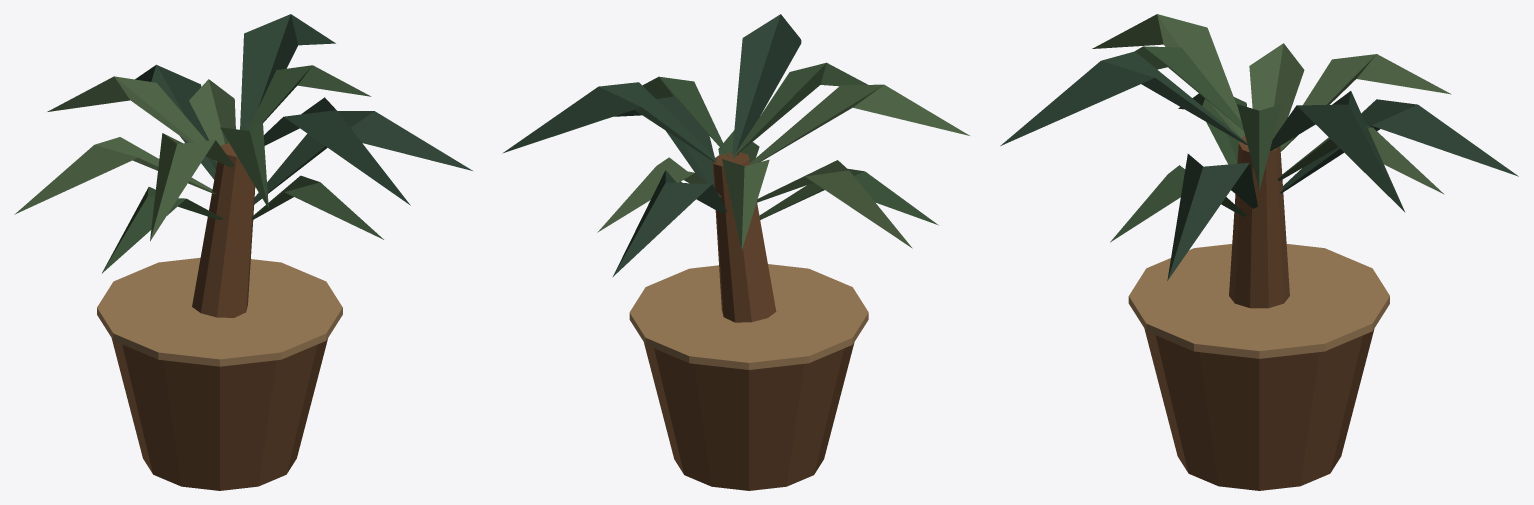
File: potted_plant.glb
The picture shows the model from 3 angles, left to right: view 1: azimuth 30°, elevation 25°; view 2: azimuth 150°, elevation 25°; view 3: azimuth 270°, elevation 25°; orthographic projection. The views are drawn at different scales.
Parts seen in each view (by area): view 1: potted_plant; view 2: potted_plant; view 3: potted_plant.
Part boxes in pixels (left/top/right/bottom): potted_plant: left=14, top=14, right=472, bottom=490; potted_plant: left=502, top=14, right=969, bottom=490; potted_plant: left=1000, top=14, right=1518, bottom=490.
Bounding box in the file's own units: 0.9597 × 0.9053 × 1.02.
